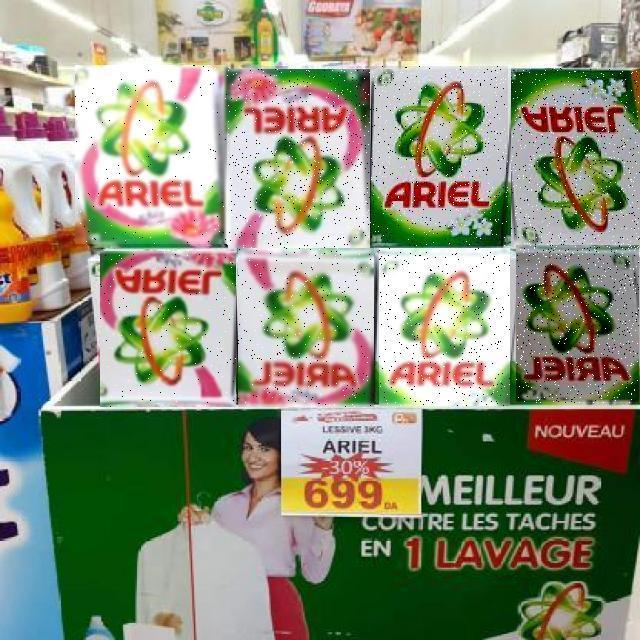Detergent: (76, 66, 230, 246), (228, 69, 370, 248), (370, 66, 508, 246), (511, 68, 640, 247), (238, 248, 374, 407), (101, 251, 237, 407), (379, 248, 510, 406), (516, 246, 639, 404)
